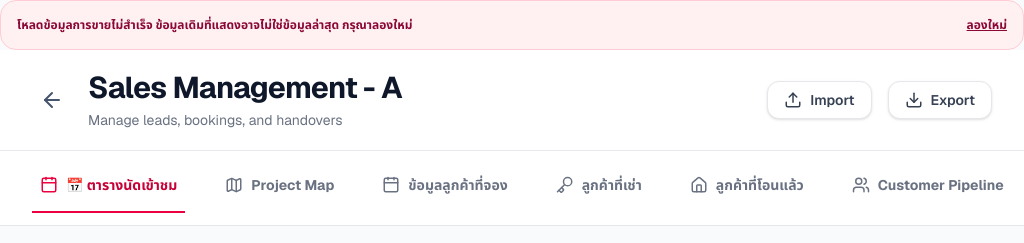
Sales Kanban failed reads › shows a failed project read and lets the user retry
Expected: the message shows "โหลดข้อมูลการขายไม่สำเร็จ", left=17, top=17, right=412, bottom=33
Step 1. Click the button "ลองใหม่" → (987, 25), box left=967, top=17, right=1007, bottom=33
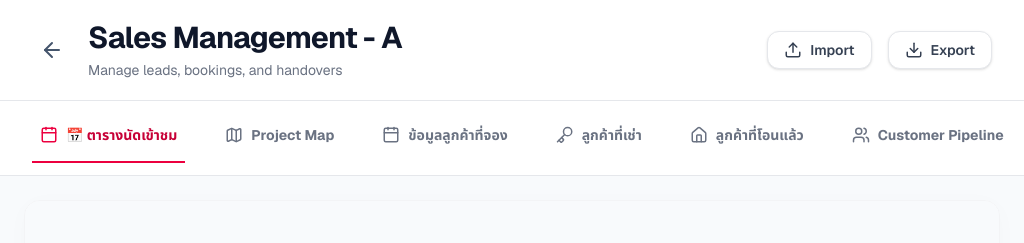
Expected: the message is gone
